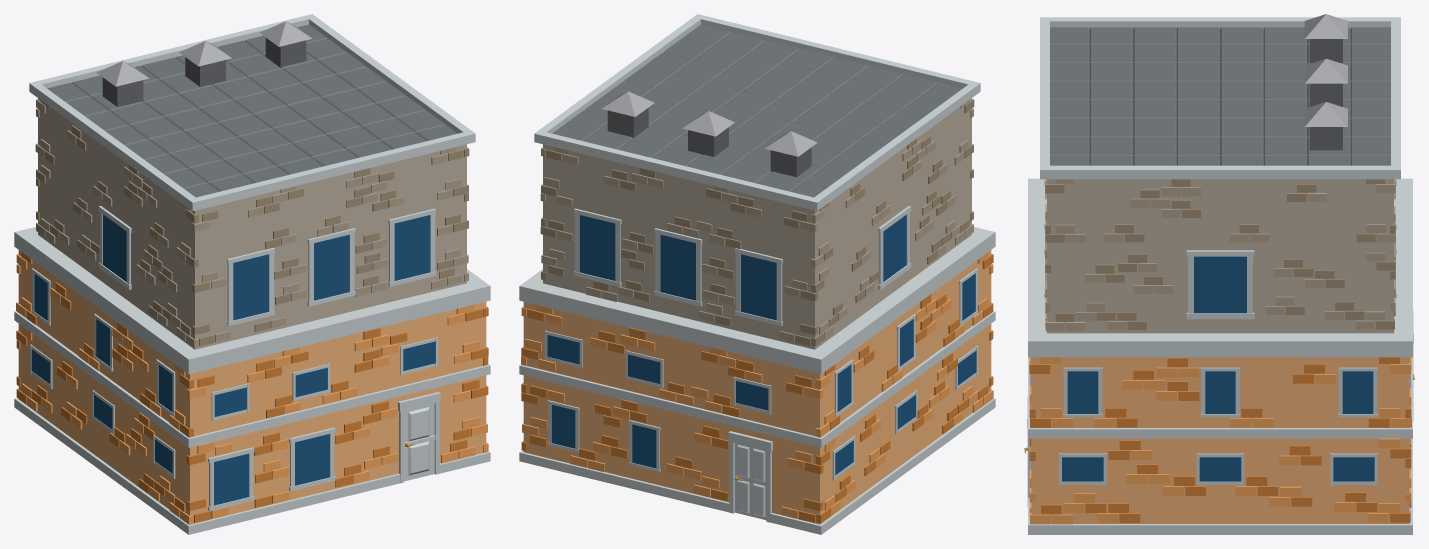
Rendered from SM_House_16_A.FBX.
The picture shows the model from 3 angles, left to right: view 1: azimuth 30°, elevation 25°; view 2: azimuth 150°, elevation 25°; view 3: azimuth 270°, elevation 25°; orthographic projection. The views are drawn at different scales.
Parts seen in each view (by area): view 1: SM_House_16_A; view 2: SM_House_16_A; view 3: SM_House_16_A.
Part boxes in pixels (box(x1,y1,x2,y2)): SM_House_16_A: box(14, 14, 490, 534); SM_House_16_A: box(519, 14, 995, 534); SM_House_16_A: box(1024, 14, 1414, 534).
Size of what is drawn, in the model's own units: 809 by 820 by 917.
